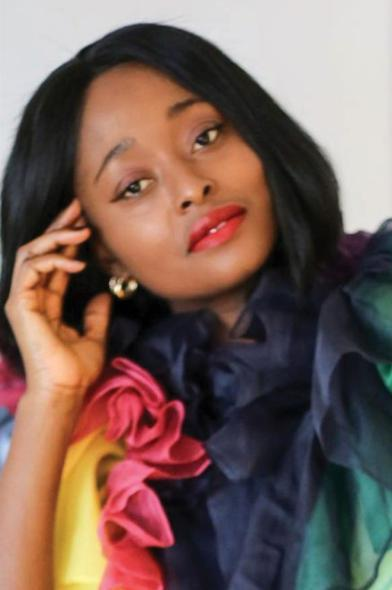Sober: (80, 79, 281, 267)
